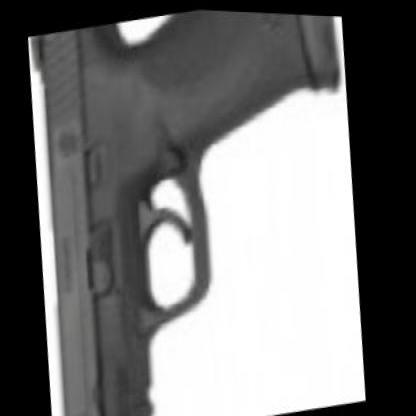pistol: (10, 0, 384, 415)
